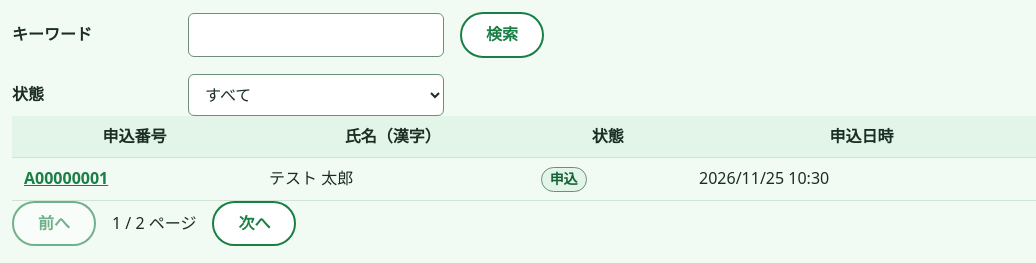
2ページ目で検索し直すと、1ページ目に戻る
Later steps or results of the test are not shown.
Expected: the text "1 / 2 ページ" is shown, [112,211,196,236]
Click the button "次へ": (254, 224) [212,201,296,246]
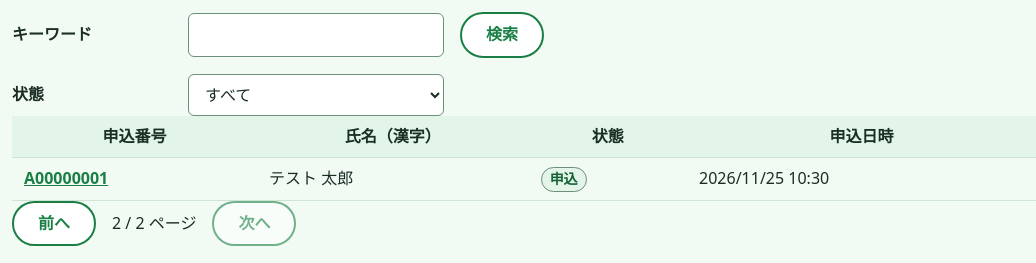
Now the text "2 / 2 ページ" is shown, box [112,211,196,236]
